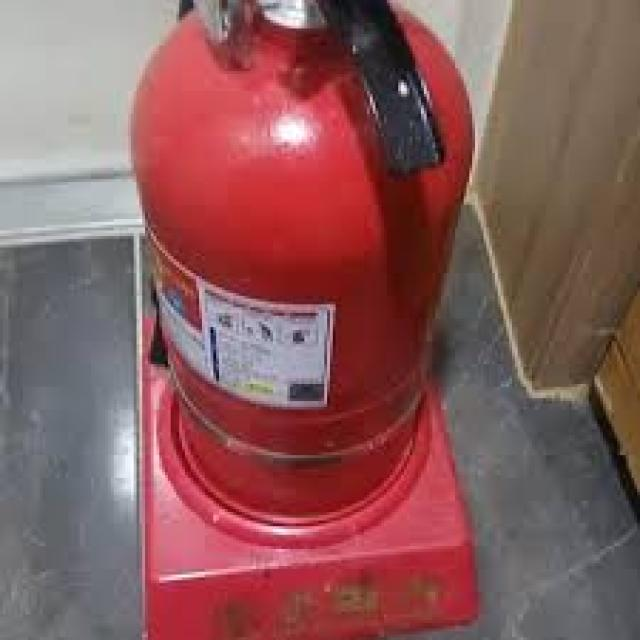pressure gauge: (200, 0, 238, 39)
